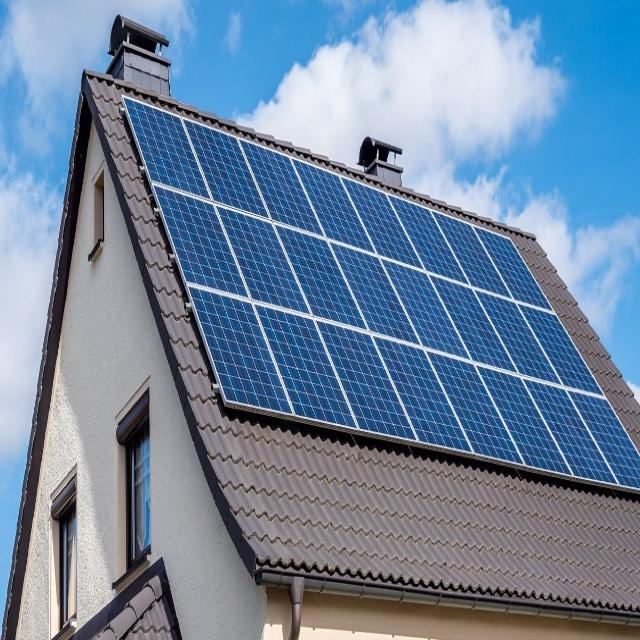clean-solar-panel: (122, 96, 640, 490)
